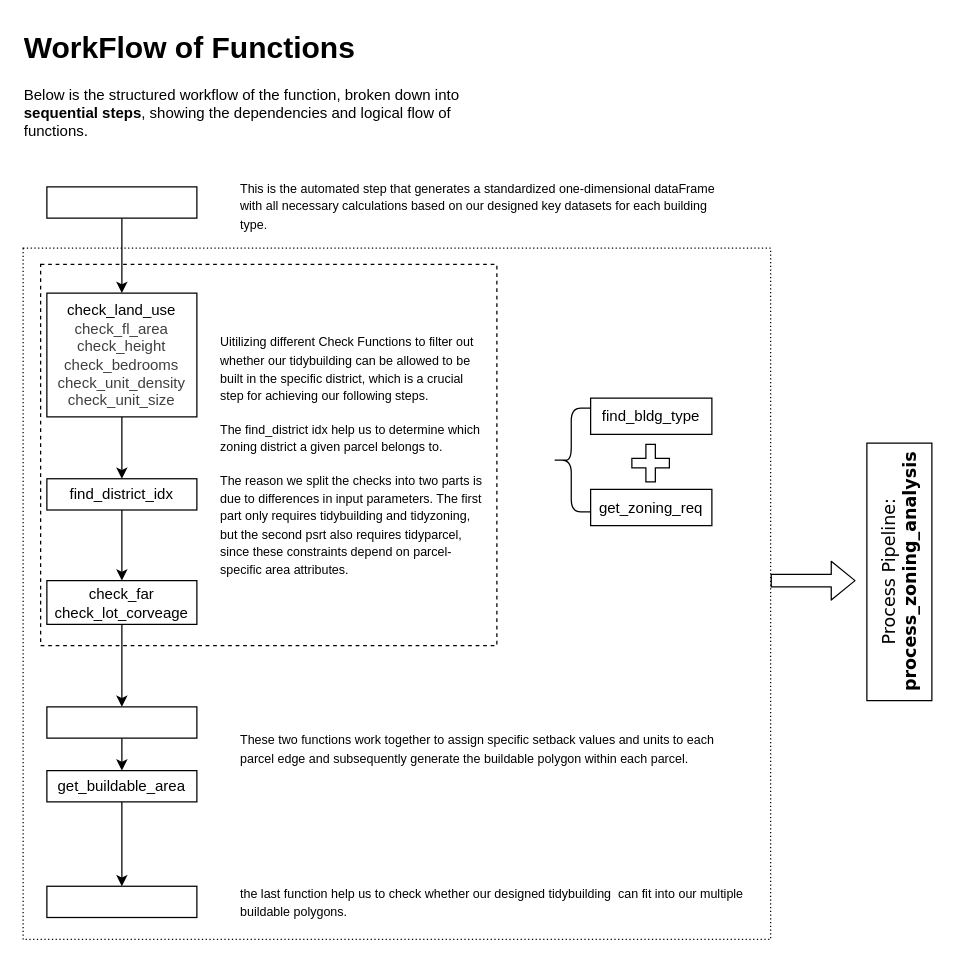
Some shapes in this 954 by 961 pixel diagram are drawn without their labels. Here are the shapes that lost their labels. From the top down, the centre of each, then its label:
the point at 121,202: unify_tidybuilding
the point at 121,722: add_setbacks
the point at 121,901: check_footprint
